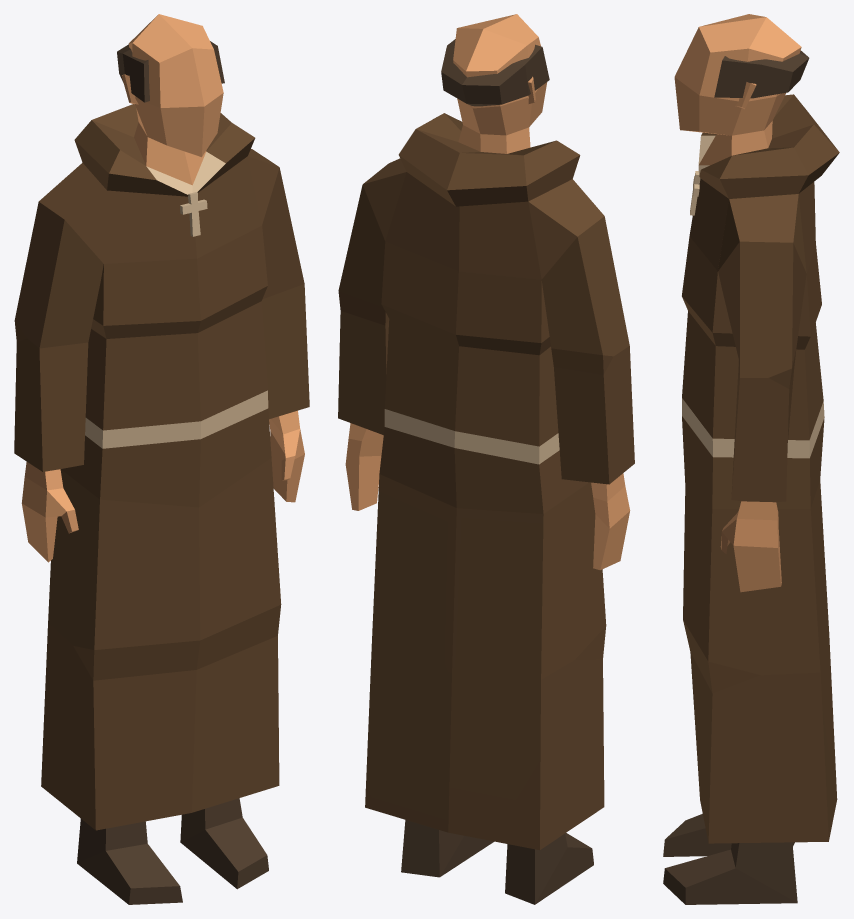
Rendered from man-monk.glb.
The picture shows the model from 3 angles, left to right: view 1: azimuth 30°, elevation 25°; view 2: azimuth 150°, elevation 25°; view 3: azimuth 270°, elevation 25°; orthographic projection.
Visible parts, largest first — view 1: man-monk; view 2: man-monk; view 3: man-monk.
Boxes of the visible parts, bbox=[...] form: man-monk: bbox=[14, 14, 309, 904]; man-monk: bbox=[338, 14, 634, 904]; man-monk: bbox=[663, 14, 839, 904].
Size of the model in its own units: 0.599 by 1.79 by 0.3359.
1 material, 1 textured.
